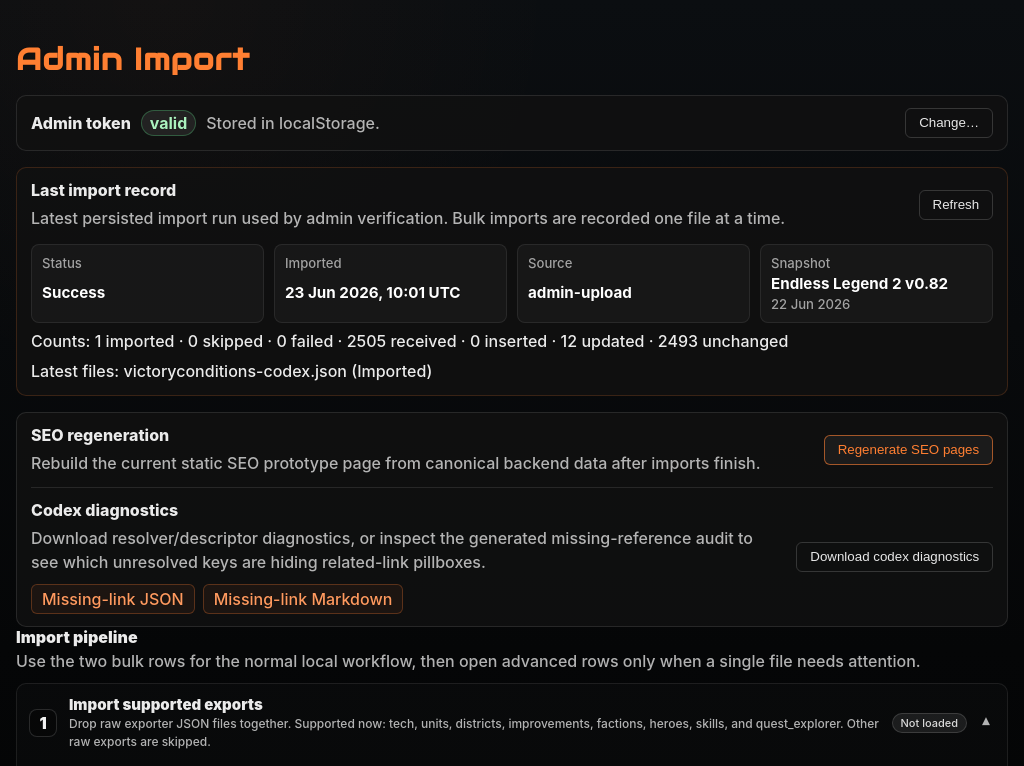
Test: AdminImportPage › downloads the codex diagnostics report from the visible admin action
What coordinates should you click on to do the following:
click the button "Download codex diagnostics"
I would click on:
 (895, 557)
Its box is x1=796 y1=542 x2=993 y2=572.
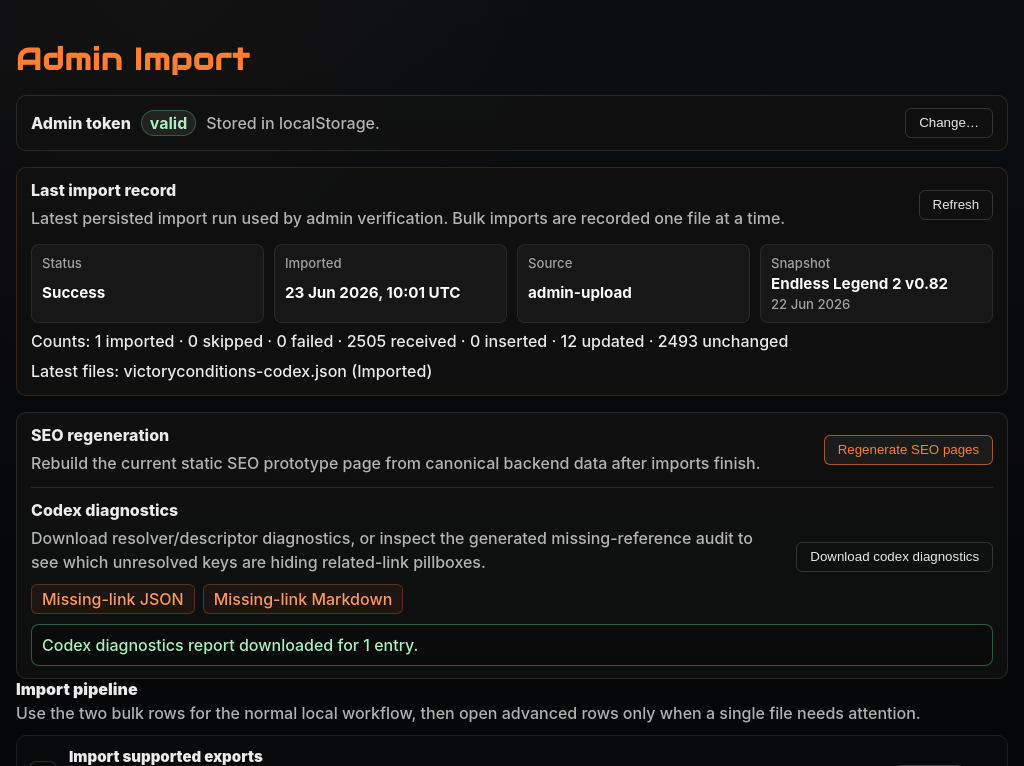
Expected: the text "Codex diagnostics report downloaded for 1 entry." is shown, x1=31 y1=624 x2=993 y2=666
